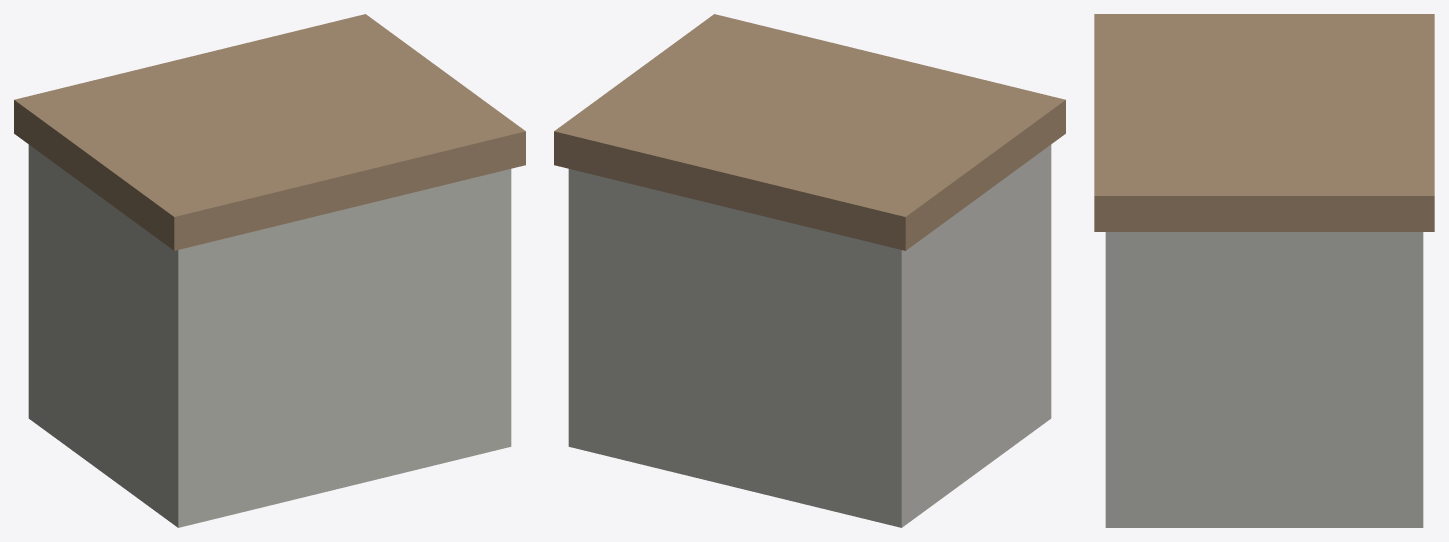
Rendered from ART-005.glb.
The picture shows the model from 3 angles, left to right: view 1: azimuth 30°, elevation 25°; view 2: azimuth 150°, elevation 25°; view 3: azimuth 270°, elevation 25°; orthographic projection. The views are drawn at different scales.
Parts seen in each view (by area): view 1: 000_Paper_box, 001_Lid; view 2: 000_Paper_box, 001_Lid; view 3: 000_Paper_box, 001_Lid.
Part boxes in pixels (<box>): 000_Paper_box: <box>28,144,511,527</box>; 001_Lid: <box>14,14,525,250</box>; 000_Paper_box: <box>568,144,1051,527</box>; 001_Lid: <box>554,14,1065,250</box>; 000_Paper_box: <box>1105,232,1423,527</box>; 001_Lid: <box>1094,14,1434,231</box>.
Size of the model in its own units: 0.38 by 0.3275 by 0.3.
